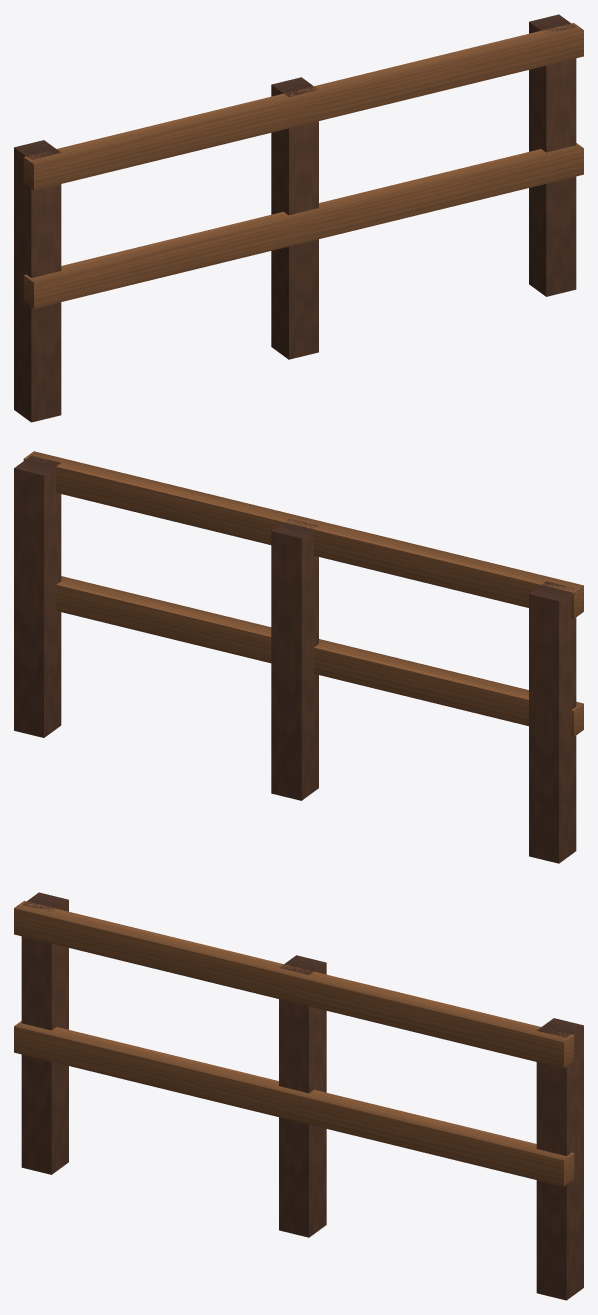
File: railing_wood_01.glb
3 views of the same model, one above another, from view 1: azimuth 30°, elevation 25°; view 2: azimuth 150°, elevation 25°; view 3: azimuth 330°, elevation 25° (orthographic).
Parts seen in each view (by area): view 1: railing_wood_01; view 2: railing_wood_01; view 3: railing_wood_01.
Part boxes in pixels (left/top/right/bottom): railing_wood_01: left=14, top=14, right=583, bottom=422; railing_wood_01: left=14, top=451, right=583, bottom=863; railing_wood_01: left=14, top=892, right=583, bottom=1300.
Size of the model in its own units: 2.19 by 1 by 0.155.
1 material, 1 textured.
